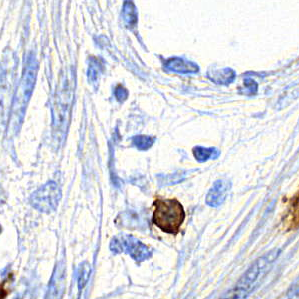Lymphocyte: (150, 196, 186, 233)
